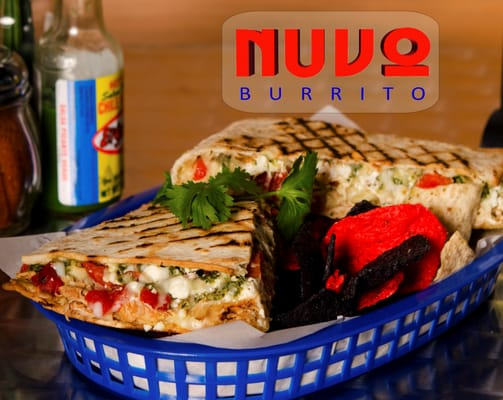soup: (11, 110, 500, 336)
